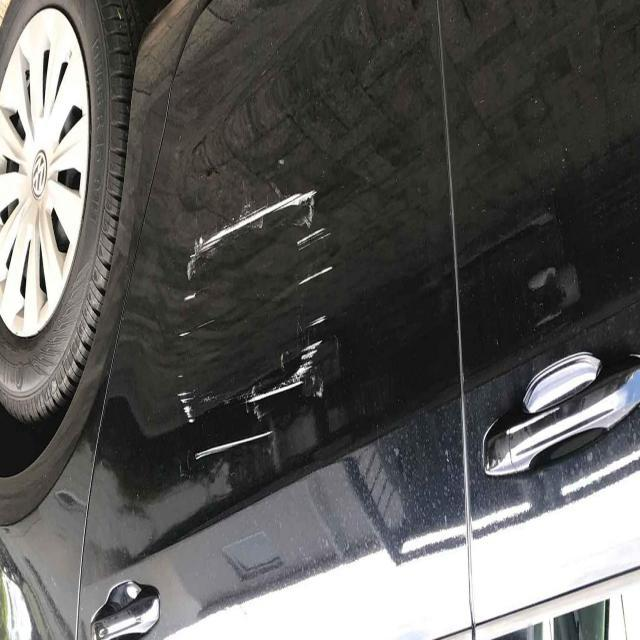scratch: (180, 177, 328, 278), (240, 300, 339, 412), (180, 426, 285, 476), (174, 320, 210, 426)
